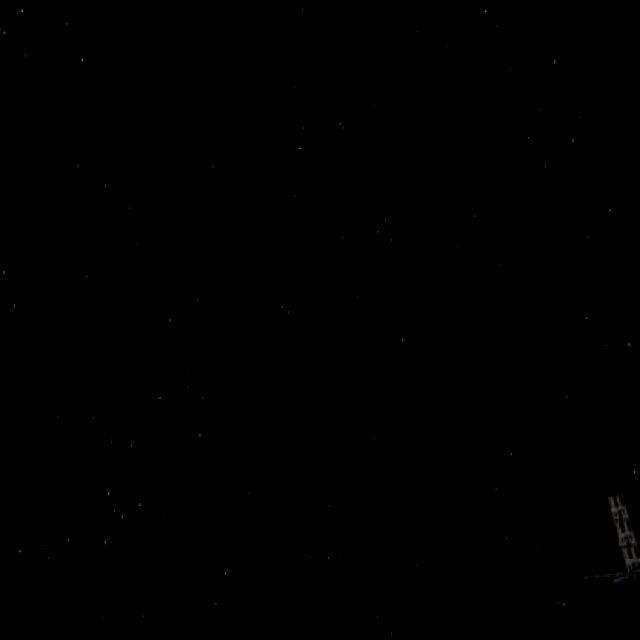satellite: (578, 488, 640, 592)
